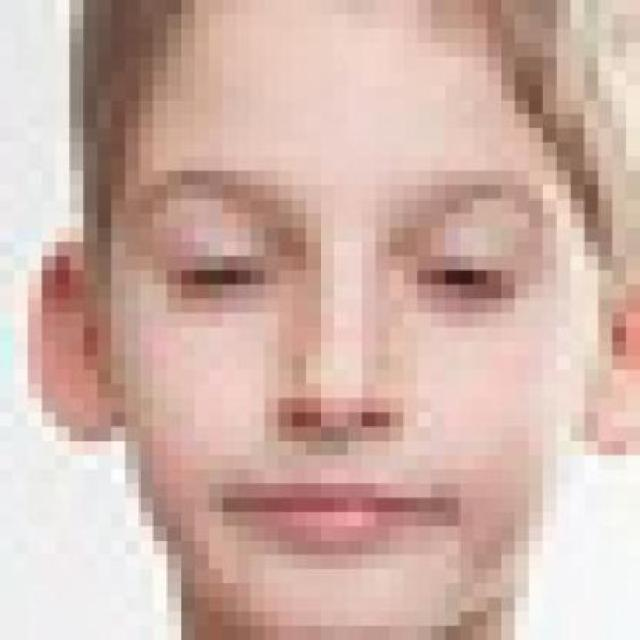drowsy: (416, 254, 513, 314), (166, 246, 262, 305)
